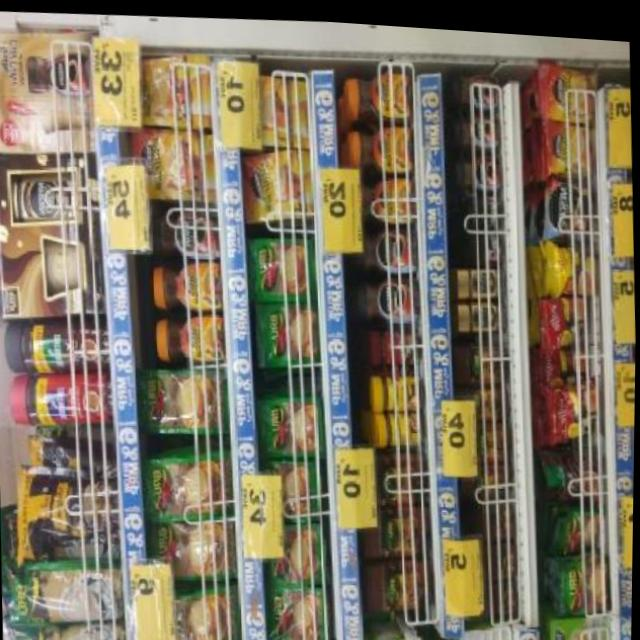Coffee: (123, 49, 211, 129), (130, 125, 215, 203), (240, 143, 314, 217), (237, 68, 308, 144), (150, 256, 225, 310), (147, 204, 221, 258), (153, 310, 226, 364), (350, 220, 420, 272), (352, 270, 422, 321), (345, 63, 412, 116), (345, 170, 416, 220), (349, 116, 413, 170), (542, 171, 600, 228), (539, 56, 592, 113), (540, 113, 592, 167), (450, 65, 499, 107), (453, 145, 503, 184), (451, 105, 500, 143), (455, 295, 509, 328), (455, 260, 505, 293), (478, 223, 505, 259), (477, 185, 504, 220)
